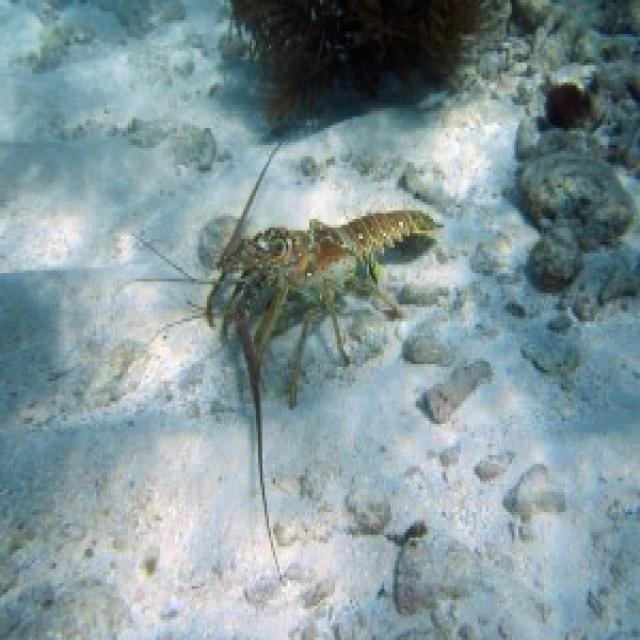lobsters: (151, 163, 532, 467)
